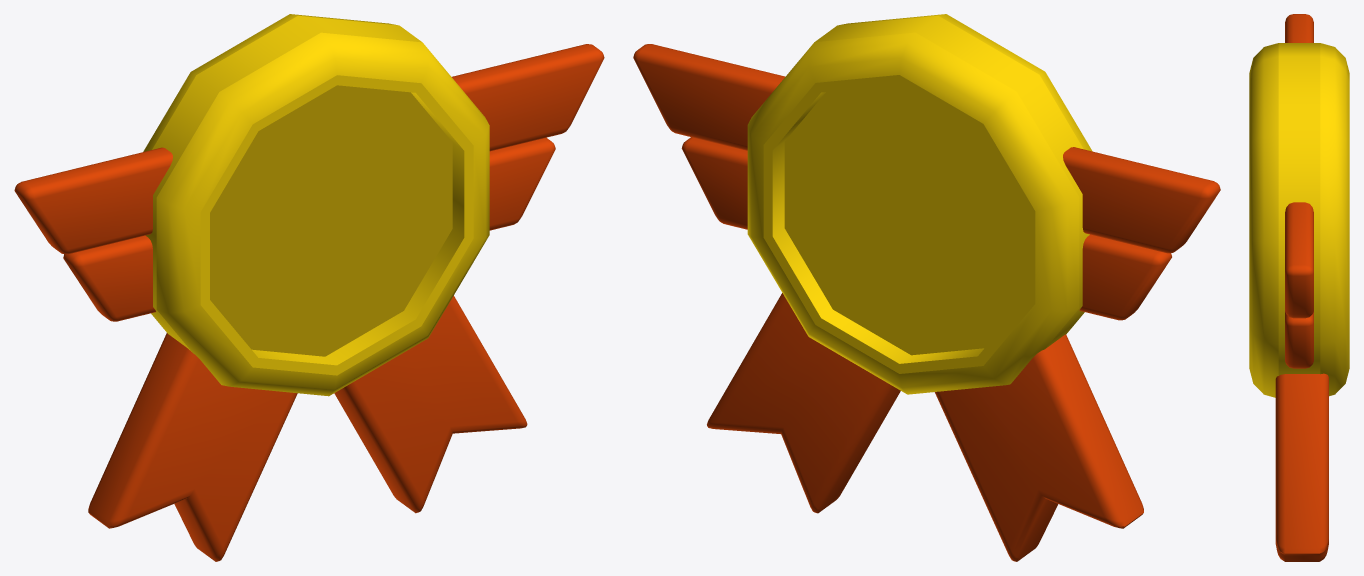
The model's file is Medal_6.fbx.
3 renders of one model, left to right at view 1: azimuth 30°, elevation 25°; view 2: azimuth 150°, elevation 25°; view 3: azimuth 270°, elevation 25°, orthographic. The views are drawn at different scales.
Visible parts, largest first — view 1: Medal_6; view 2: Medal_6; view 3: Medal_6.
Part boxes in pixels (box(x1,y1,x2,y2)): Medal_6: box(14, 14, 604, 561); Medal_6: box(633, 14, 1220, 561); Medal_6: box(1249, 14, 1349, 561).
Bounding box in the file's own units: 0.2998 × 0.2502 × 0.0494.
